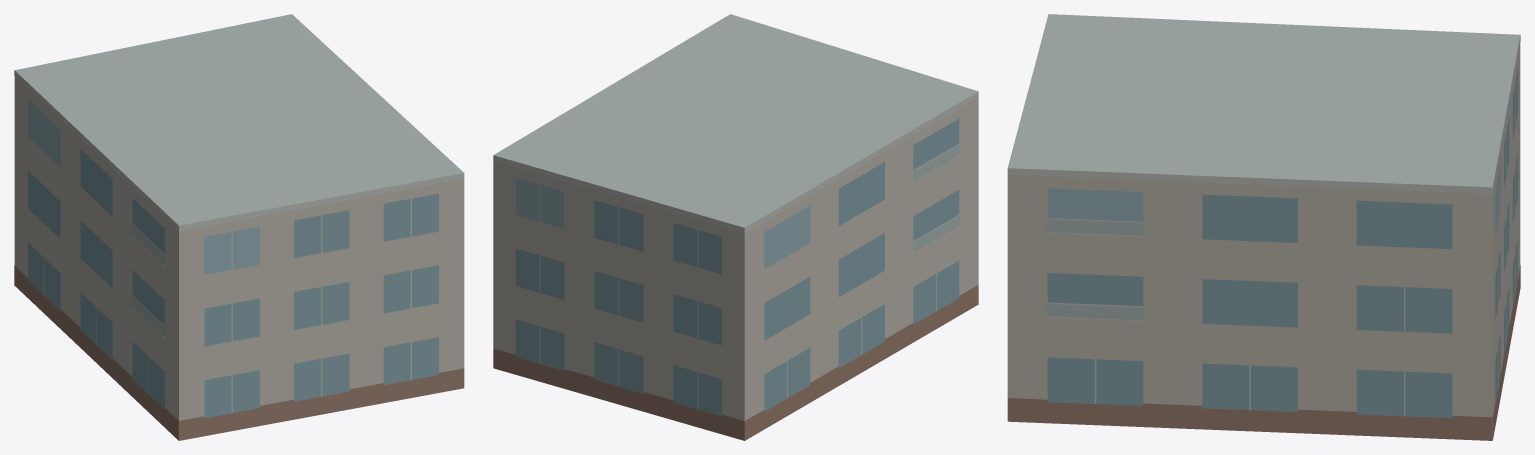
File: survey-upis-32593893.glb
The picture shows the model from 3 angles, left to right: view 1: azimuth 30°, elevation 25°; view 2: azimuth 150°, elevation 25°; view 3: azimuth 270°, elevation 25°; orthographic projection. The views are drawn at different scales.
Visible parts, largest first — view 1: survey-upis-32593893.tmp; view 2: survey-upis-32593893.tmp; view 3: survey-upis-32593893.tmp.
Part boxes in pixels (x1,y1,x2,y2): survey-upis-32593893.tmp: [14, 14, 464, 440]; survey-upis-32593893.tmp: [493, 14, 978, 440]; survey-upis-32593893.tmp: [1007, 14, 1520, 440].
Size of the model in its own units: 13.43 by 9.15 by 16.78.
